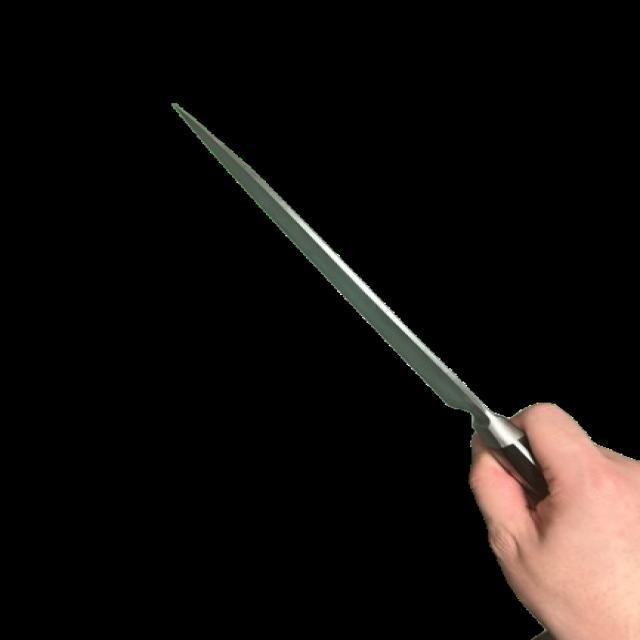knife: (184, 105, 639, 639)
